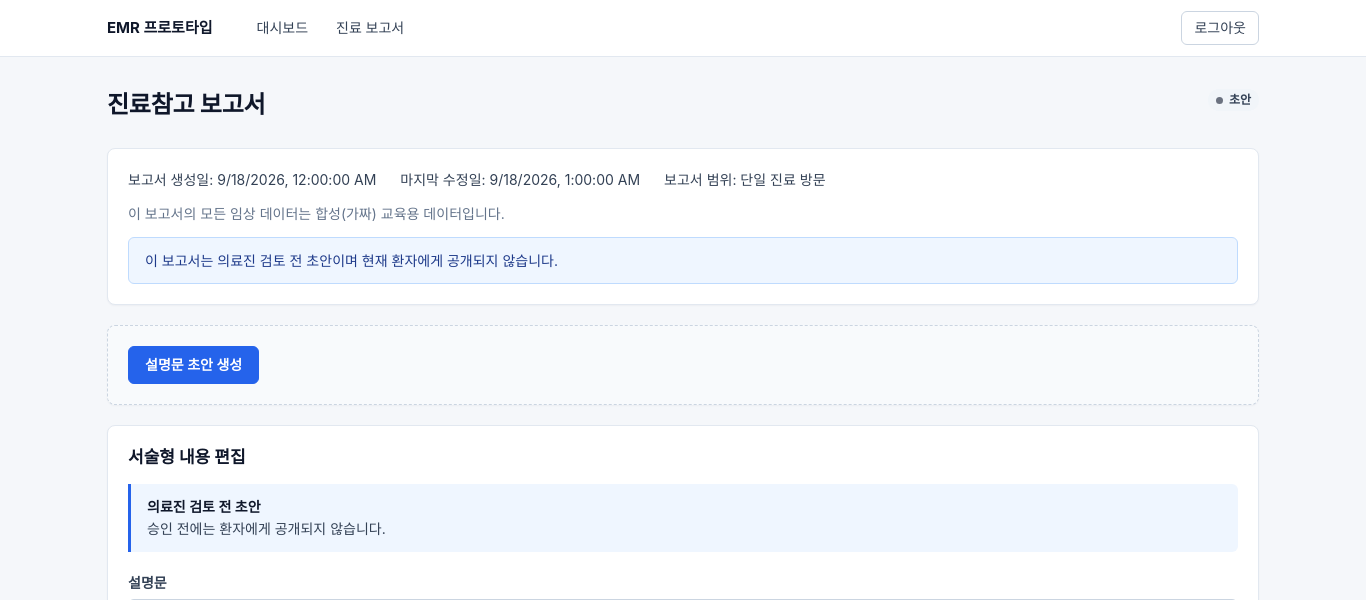
Test: ClinicalReportPreviewPage › shows the backend's safe service-unavailable message on a 503
Click the button "설명문 초안 생성".
click(194, 365)  # box [128, 346, 259, 384]
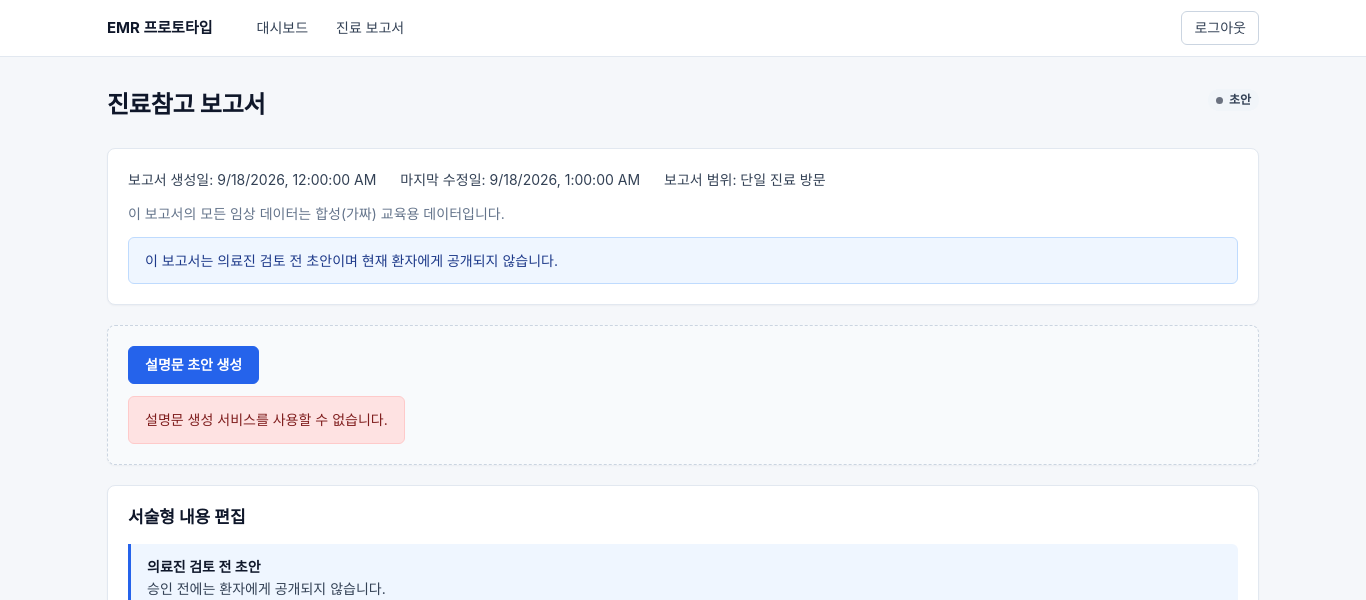
Now the message reads "설명문 생성 서비스를 사용할 수 없습니다.", box [145, 411, 388, 428]
